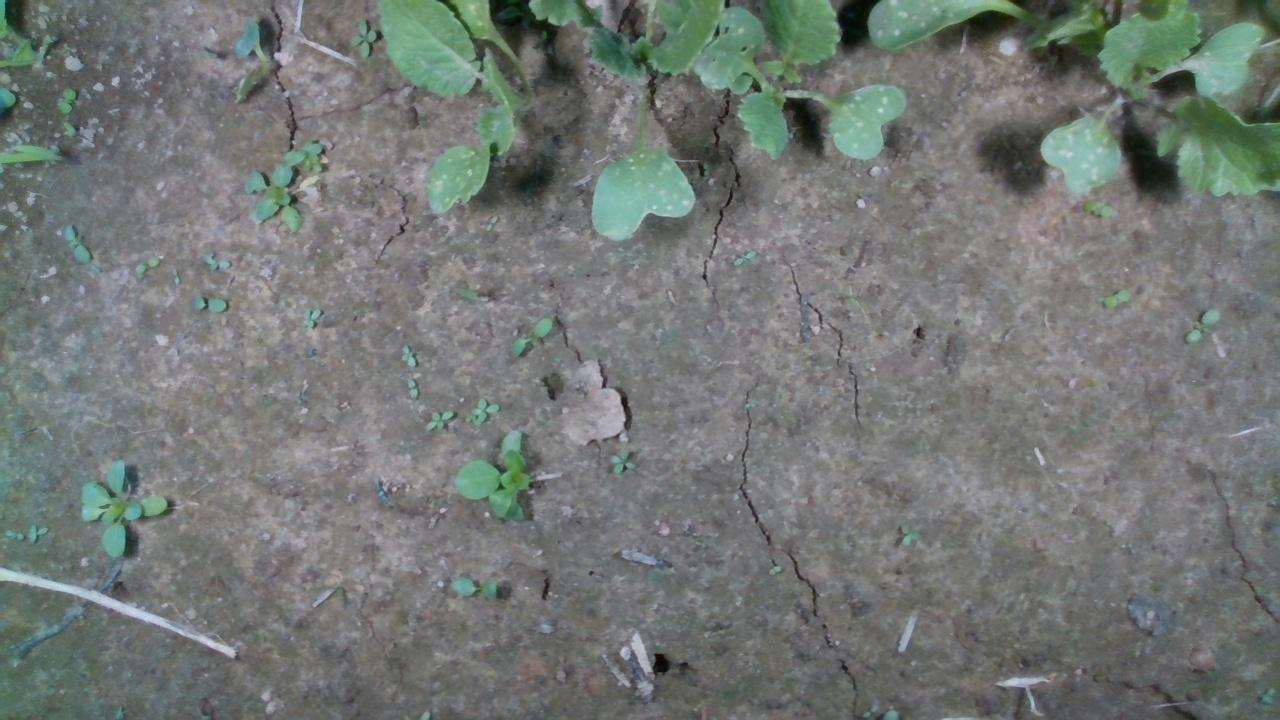weed: (507, 315, 554, 359), (1182, 305, 1220, 343), (446, 574, 499, 600), (61, 223, 93, 264), (347, 16, 377, 58), (188, 293, 229, 315), (607, 445, 637, 475), (421, 407, 455, 432), (1082, 196, 1116, 220), (1101, 286, 1131, 309), (299, 302, 321, 330), (131, 253, 161, 273), (55, 86, 77, 113), (898, 521, 920, 546), (27, 520, 49, 544), (398, 341, 417, 367), (730, 248, 757, 266), (403, 376, 419, 402), (1, 526, 25, 542), (169, 264, 181, 285), (764, 563, 782, 575)
